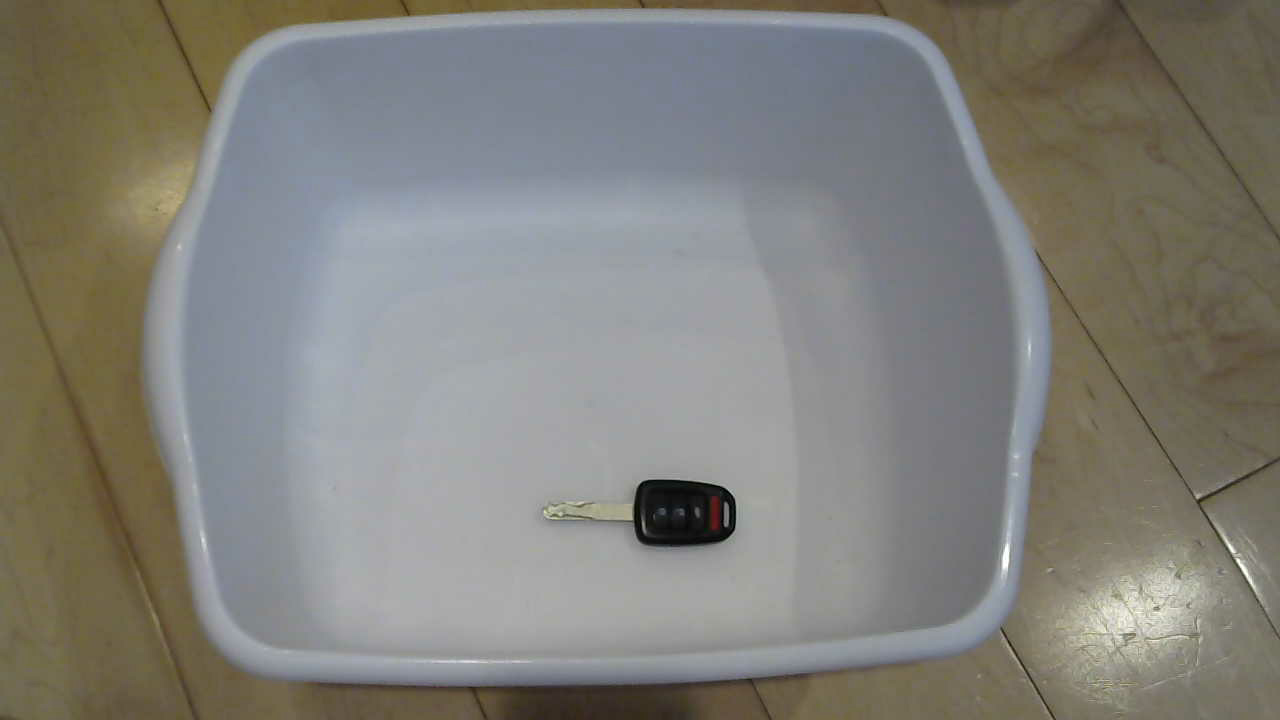key: (540, 469, 746, 558)
